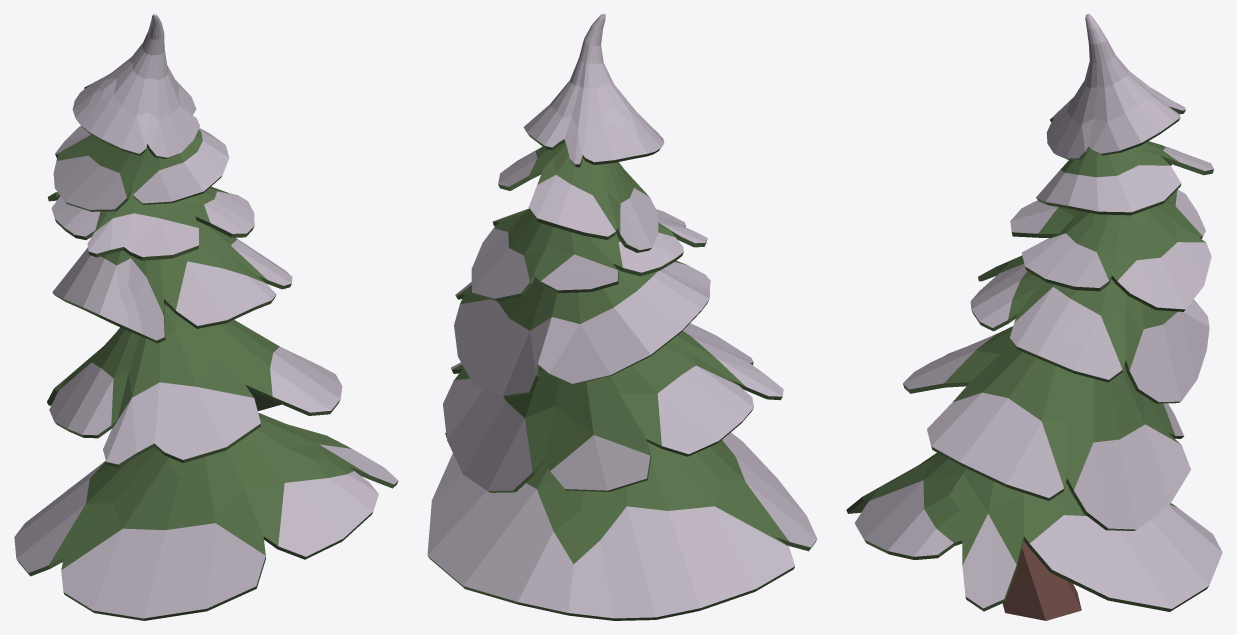
The model's file is pine_tree_snow_3.glb.
3 renders of one model, left to right at view 1: azimuth 30°, elevation 25°; view 2: azimuth 150°, elevation 25°; view 3: azimuth 270°, elevation 25°, orthographic. The views are drawn at different scales.
Parts seen in each view (by area): view 1: pine_tree_snow_3; view 2: pine_tree_snow_3; view 3: pine_tree_snow_3.
Boxes of the visible parts, <box> form: pine_tree_snow_3: <box>14,14,398,620</box>; pine_tree_snow_3: <box>427,14,817,620</box>; pine_tree_snow_3: <box>846,14,1222,620</box>.
Bounding box in the file's own units: 2.16 × 3.3 × 1.95.
Materials: 1 (1 with a texture image).
